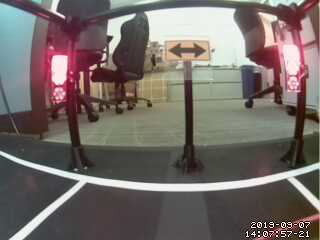Left_Right_sign: (165, 36, 211, 61)
Traffic_light_red: (281, 46, 303, 92), (53, 53, 69, 99)
